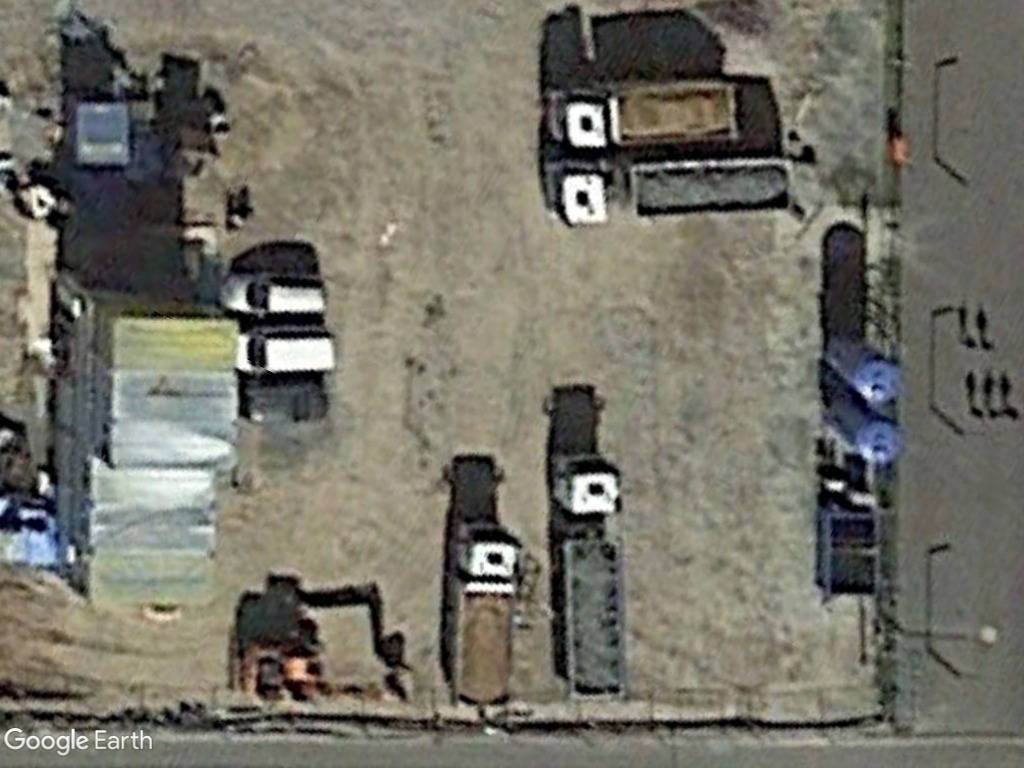car: (211, 266, 333, 324), (232, 324, 339, 376)
